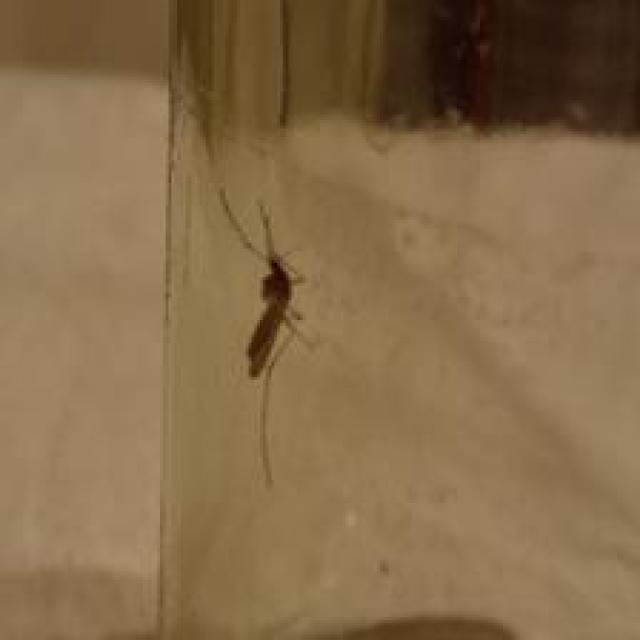Culex: (215, 186, 318, 488)
